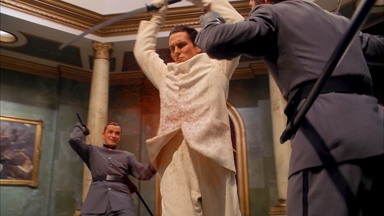bladed_weapon: (272, 1, 379, 147), (58, 0, 185, 53), (74, 109, 94, 144), (134, 185, 156, 214)
